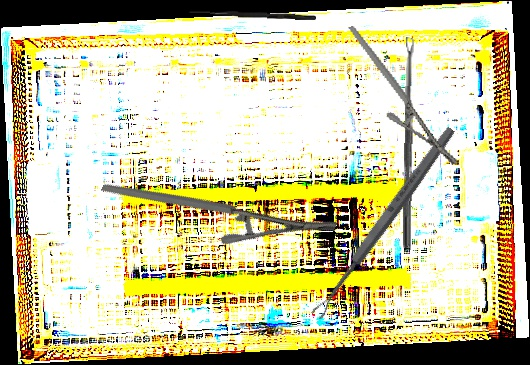Hook Surgical: (188, 9, 317, 21)
Needle Holder: (100, 113, 339, 299), (347, 7, 460, 183)
Surgical Spoon: (309, 124, 458, 321), (402, 37, 416, 250)
